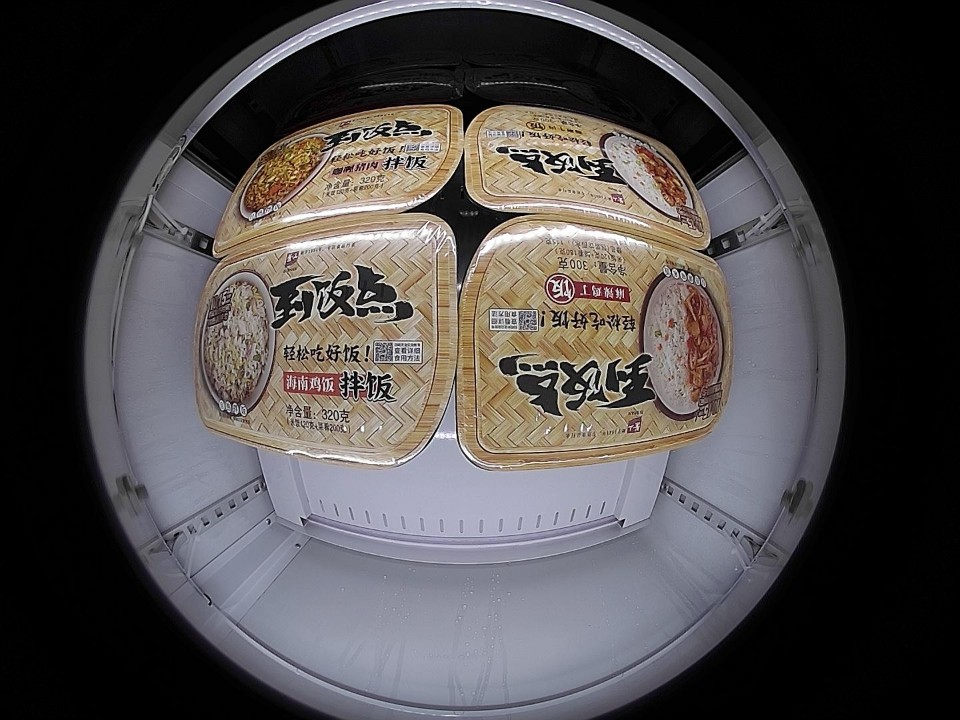daofandian1: (193, 212, 461, 467)
daofandian2: (463, 105, 713, 250)
daofandian3: (215, 105, 467, 252)
daofandian4: (453, 217, 735, 465)
